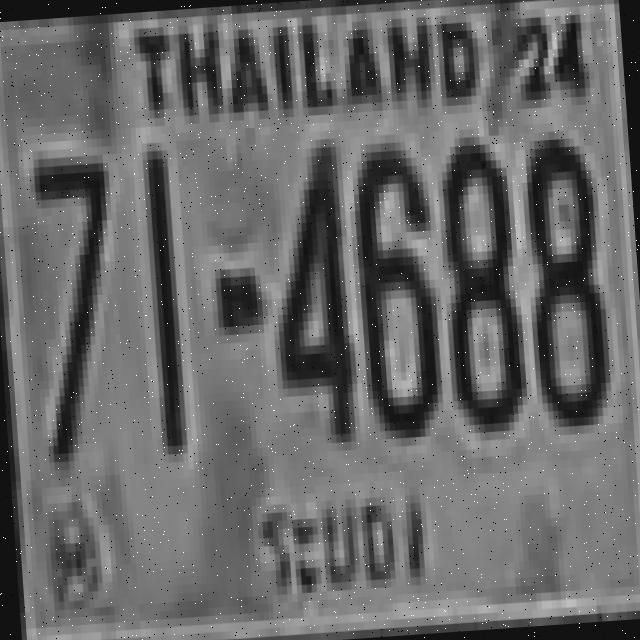1: (136, 146, 182, 450)
4: (260, 138, 355, 438)
6: (344, 132, 440, 432)
7: (28, 146, 124, 462), (28, 150, 120, 409)
8: (518, 129, 608, 420), (434, 135, 523, 426)
Rayong: (253, 476, 442, 618)
